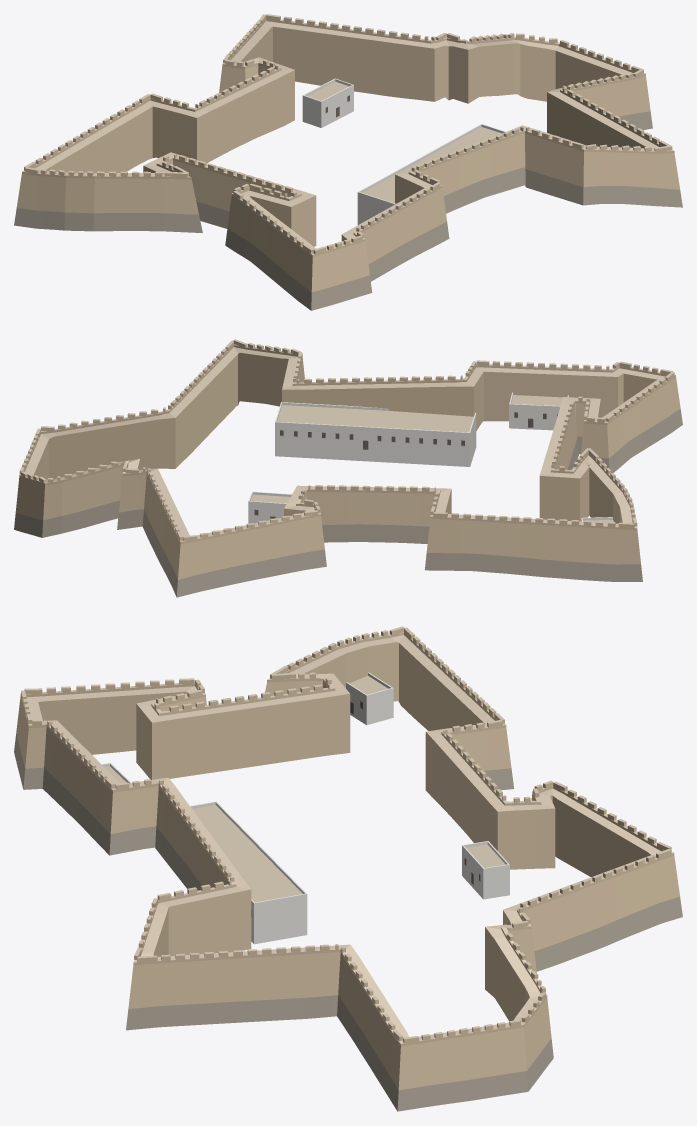
Rendered from mombasa.glb.
The picture shows the model from 3 angles, top to bottom: view 1: azimuth 30°, elevation 25°; view 2: azimuth 150°, elevation 25°; view 3: azimuth 270°, elevation 25°; orthographic projection. The views are drawn at different scales.
Visible parts, largest first — view 1: mombasa; view 2: mombasa; view 3: mombasa.
Boxes of the visible parts, bbox=[...] form: mombasa: bbox=[14, 14, 682, 310]; mombasa: bbox=[14, 339, 682, 597]; mombasa: bbox=[14, 626, 682, 1111].
Bounding box in the file's own units: 172 × 32.35 × 135.
